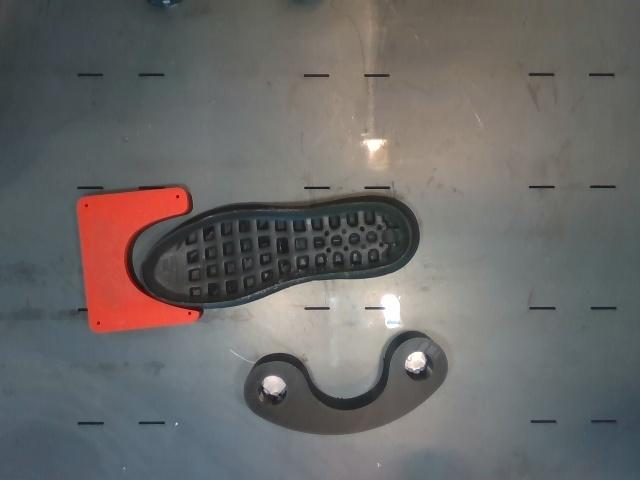shoes: (142, 202, 412, 304)
